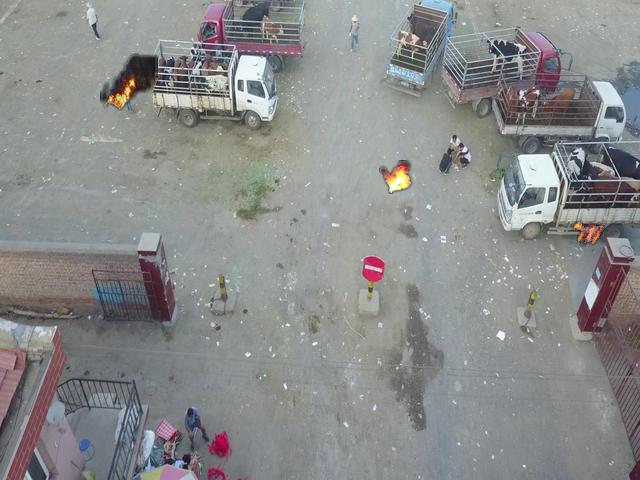fire: (101, 55, 156, 108), (380, 161, 411, 192), (571, 218, 603, 246)
